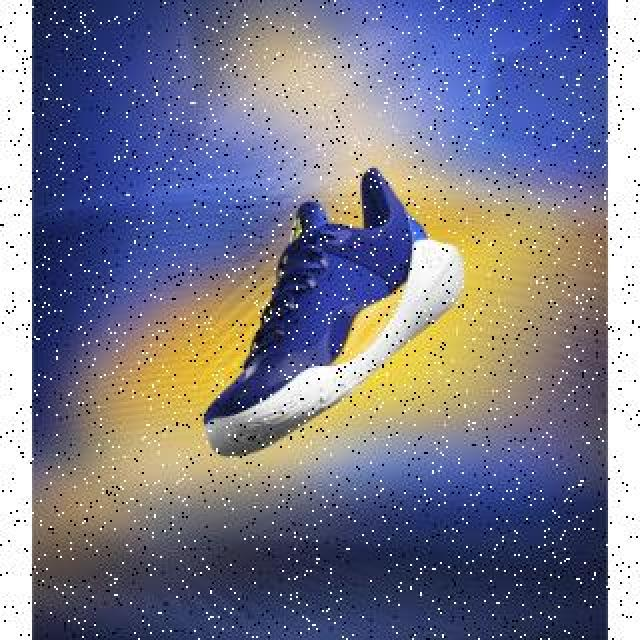shoe: (203, 167, 465, 457)
